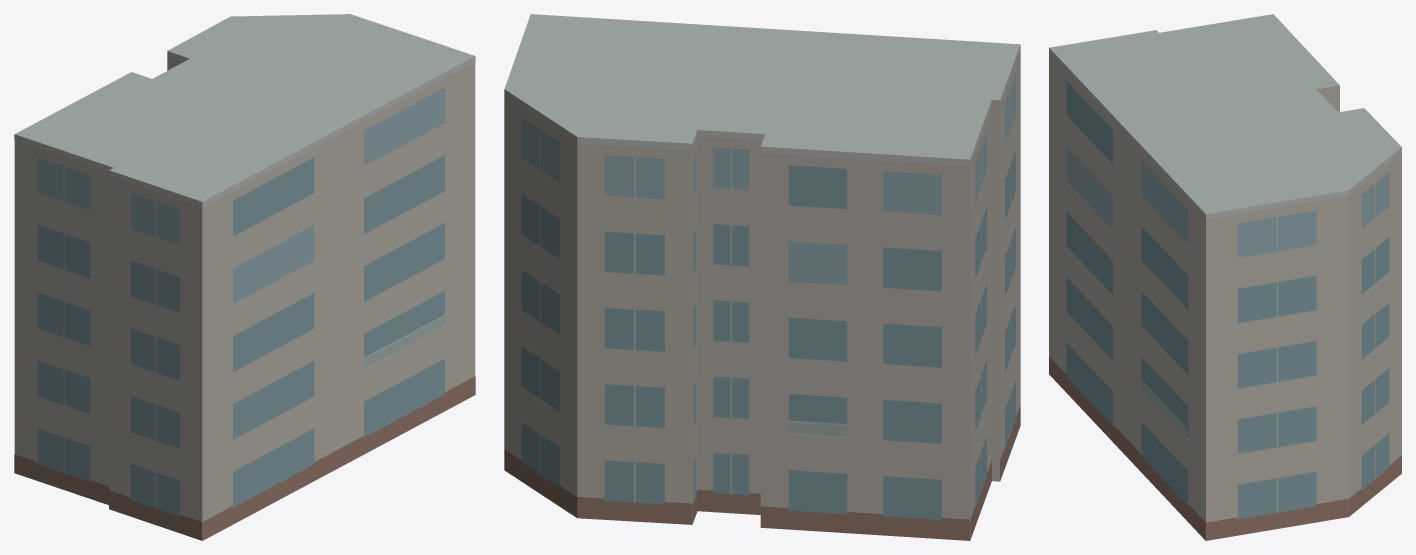
Rendered from survey-upis-33043156.glb.
The picture shows the model from 3 angles, left to right: view 1: azimuth 30°, elevation 25°; view 2: azimuth 150°, elevation 25°; view 3: azimuth 270°, elevation 25°; orthographic projection. The views are drawn at different scales.
Visible parts, largest first — view 1: survey-upis-33043156.tmp; view 2: survey-upis-33043156.tmp; view 3: survey-upis-33043156.tmp.
Part boxes in pixels (x1,y1,x2,y2): survey-upis-33043156.tmp: [14, 14, 475, 540]; survey-upis-33043156.tmp: [504, 14, 1020, 540]; survey-upis-33043156.tmp: [1049, 14, 1401, 540].
Bounding box in the file's own units: 19.14 × 14.55 × 14.25.
